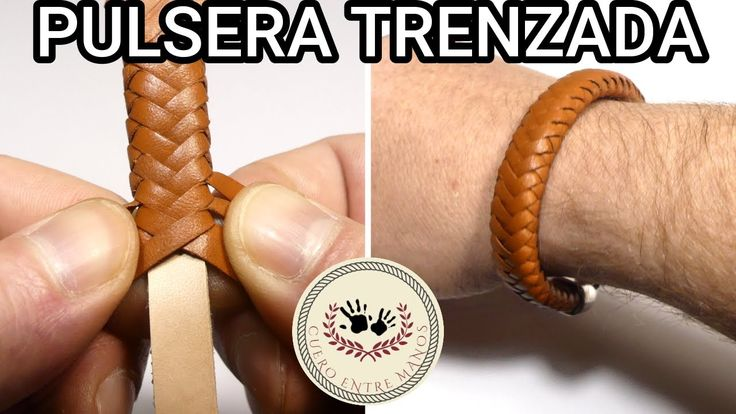cuero: (121, 47, 647, 313)
